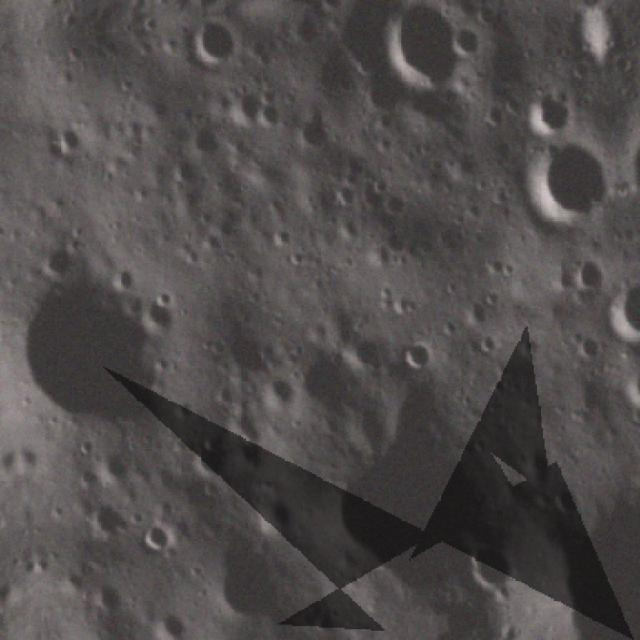crater: (295, 367, 510, 615), (6, 264, 174, 450), (198, 523, 322, 640), (365, 0, 487, 108), (510, 124, 624, 236), (541, 479, 640, 602), (290, 332, 361, 412), (458, 536, 522, 604), (218, 314, 276, 384), (517, 75, 577, 142), (595, 275, 640, 353), (187, 16, 245, 76), (561, 0, 604, 80), (76, 492, 136, 546), (182, 427, 232, 485), (34, 232, 84, 286), (251, 488, 297, 544), (339, 328, 390, 378), (286, 109, 334, 160), (135, 293, 183, 342), (446, 16, 492, 66), (91, 442, 135, 492), (566, 247, 612, 293), (135, 516, 180, 559), (396, 330, 438, 376), (221, 85, 262, 132), (162, 146, 203, 192), (284, 12, 328, 54), (259, 365, 298, 412), (611, 357, 640, 420), (562, 325, 604, 367), (145, 601, 189, 640), (250, 87, 285, 135), (88, 577, 128, 618), (128, 360, 166, 402), (44, 122, 85, 160), (184, 120, 222, 160), (375, 181, 413, 221), (469, 95, 508, 133), (516, 442, 553, 482), (105, 258, 143, 296), (547, 480, 584, 517), (468, 326, 504, 362), (330, 210, 365, 247), (476, 247, 513, 282), (267, 220, 301, 254), (326, 178, 359, 212), (376, 222, 409, 256), (70, 428, 102, 461), (207, 381, 238, 410), (158, 31, 188, 60), (67, 462, 98, 490), (366, 172, 394, 202), (189, 631, 228, 640), (0, 57, 5, 88)
